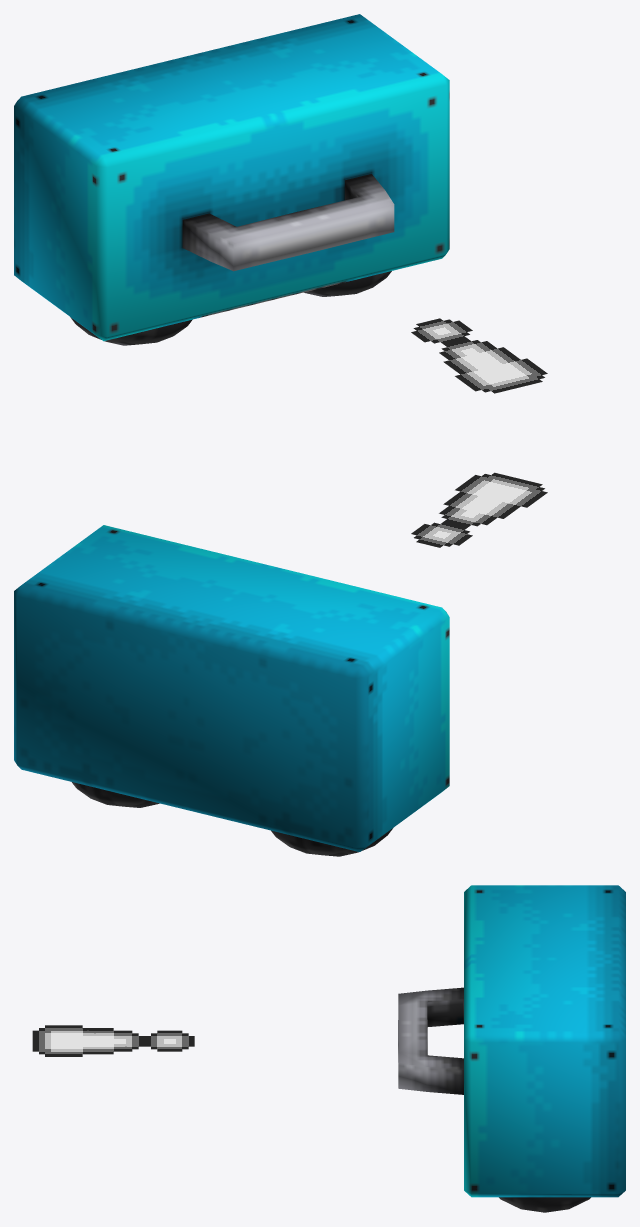
Rendered from BoomboxQuest.fbx.
3 views of the same model, one above another, from view 1: azimuth 30°, elevation 25°; view 2: azimuth 150°, elevation 25°; view 3: azimuth 270°, elevation 25° (orthographic). The views are drawn at different scales.
Visible parts, largest first — view 1: BoomboxQuest, AltarIcon (1); view 2: BoomboxQuest, AltarIcon (1); view 3: BoomboxQuest, AltarIcon (1).
Boxes of the visible parts, bbox=[...] form: BoomboxQuest: bbox=[14, 14, 449, 345]; AltarIcon (1): bbox=[411, 318, 547, 393]; BoomboxQuest: bbox=[14, 525, 449, 856]; AltarIcon (1): bbox=[411, 472, 547, 547]; BoomboxQuest: bbox=[398, 885, 625, 1212]; AltarIcon (1): bbox=[32, 1025, 194, 1056].
Size of the model in its own units: 2.74 by 1.68 by 4.6.
2 materials, 2 textured.
